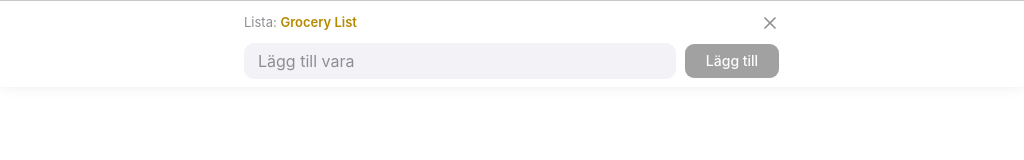
QuickAddBar › switches target section with the chip and remembers the last one used
Click the button with aria-label "Lägger till i" at (300, 23), box [244,13,357,32]
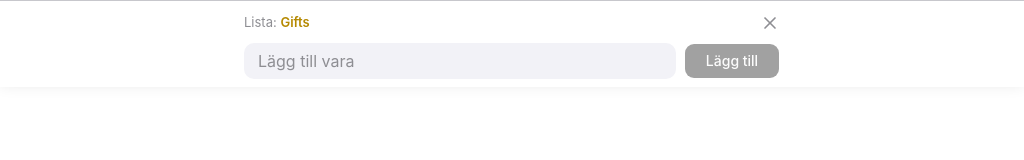
Now the button with aria-label "Lägger till i" shows "Gifts", box [244,13,310,32]
Type "Lego" into the text box labelled "Lägg till vara" at (460, 61), box [258,50,662,72]
Then press Enter
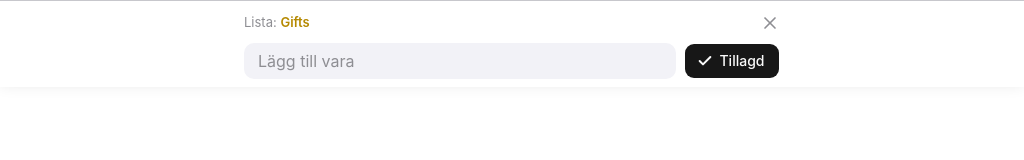
Click the button with aria-label "Lägger till i" at (277, 23), box [244,13,310,32]
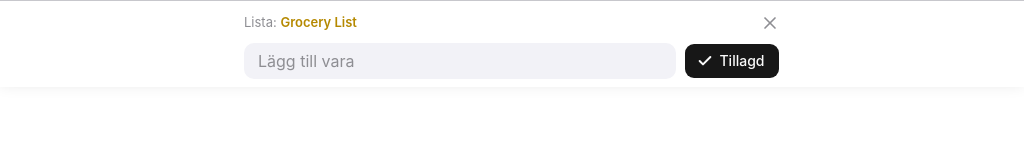
Now the button with aria-label "Lägger till i" shows "Grocery List", box [244,13,357,32]
